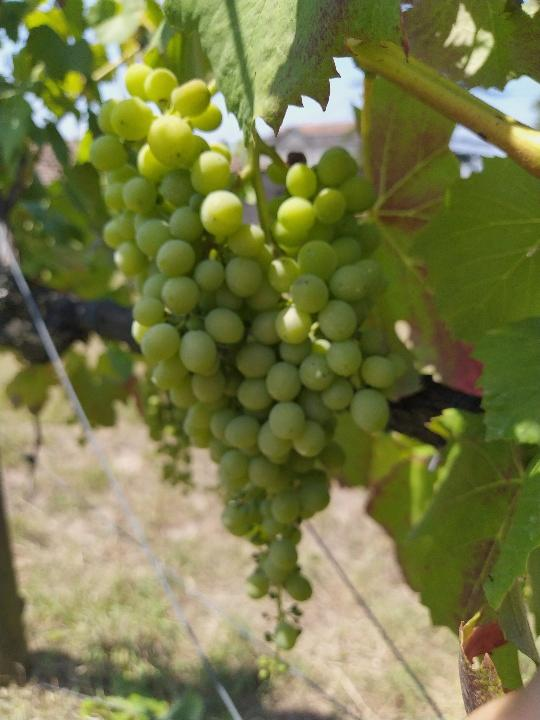grape: (88, 62, 407, 683)
